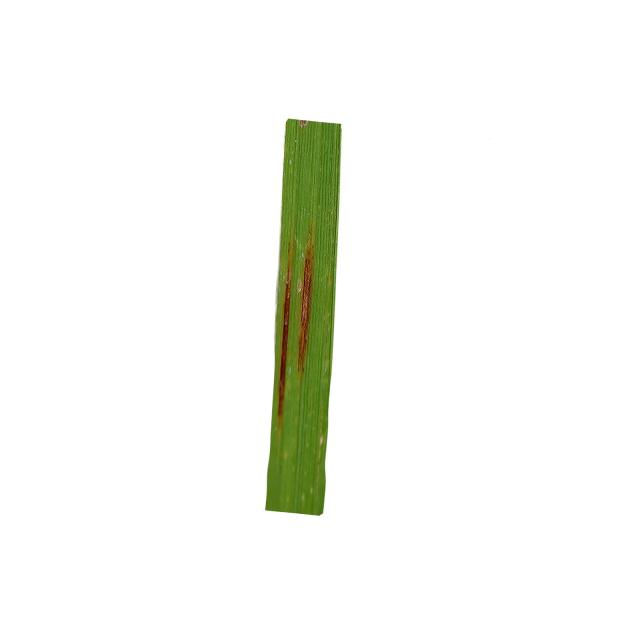Narrow brown: (240, 79, 420, 547)
